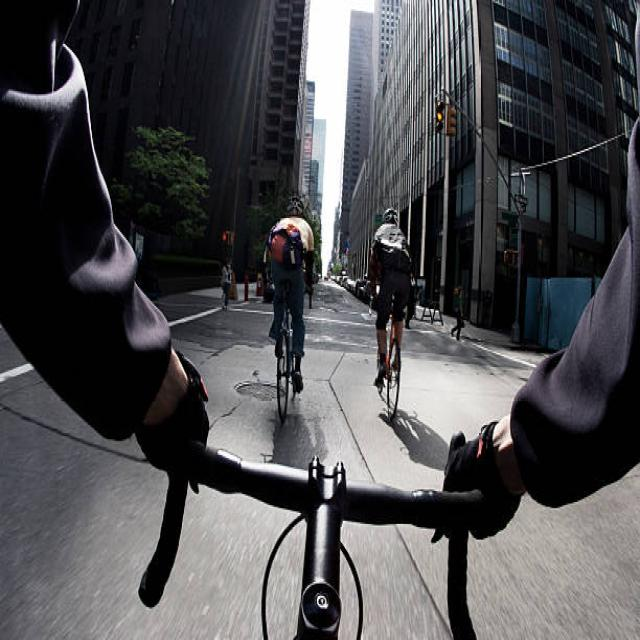bicycle: (268, 197, 315, 421), (370, 210, 411, 419)
